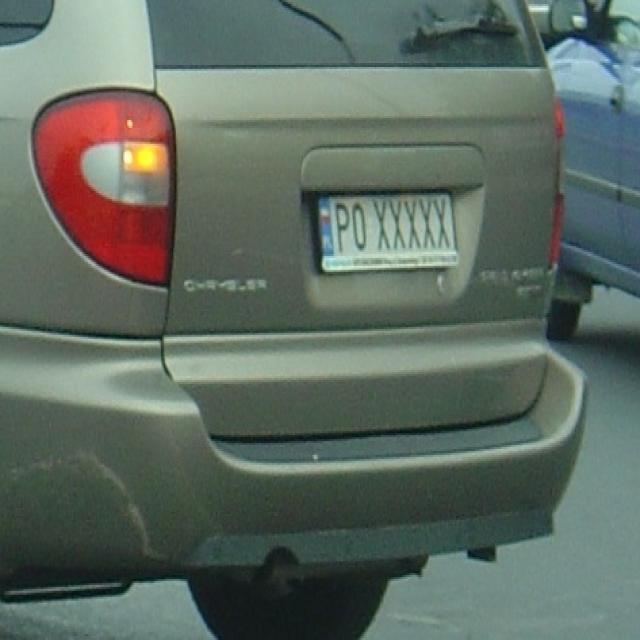pl_license_plate: (315, 191, 456, 252)
